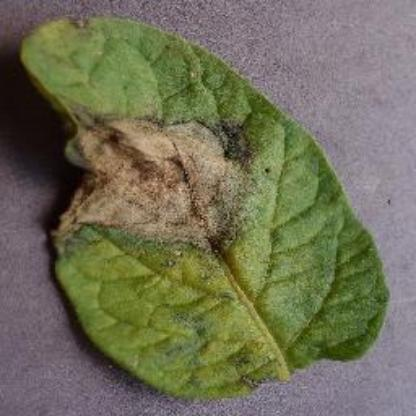Late-Blight: (15, 17, 395, 403)
